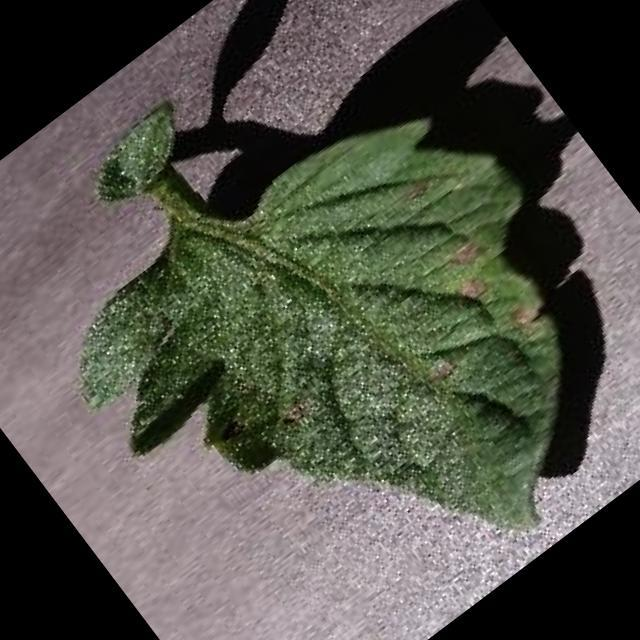Tomato Early blight leaf: (38, 54, 640, 640)
